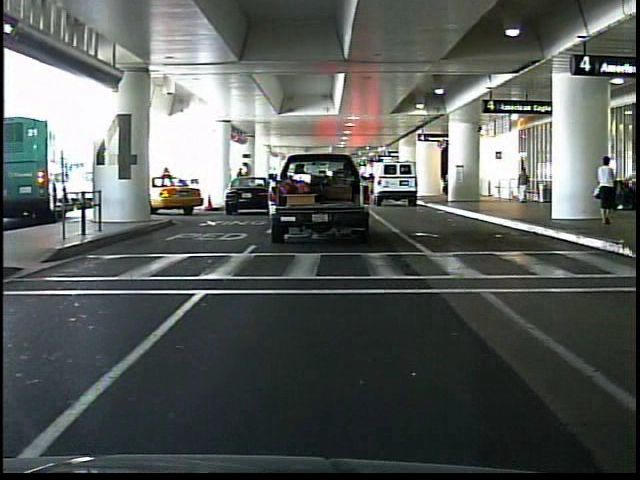person: (592, 152, 621, 229), (515, 160, 534, 207), (631, 152, 632, 222)
